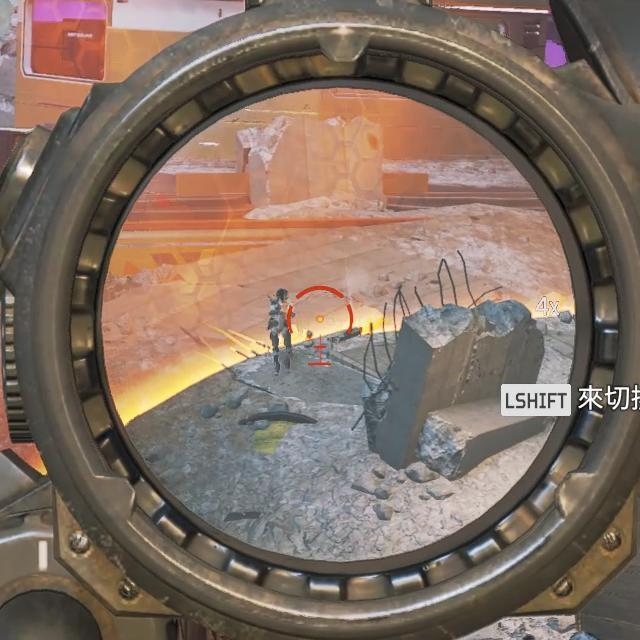avatar: (265, 287, 295, 377)
